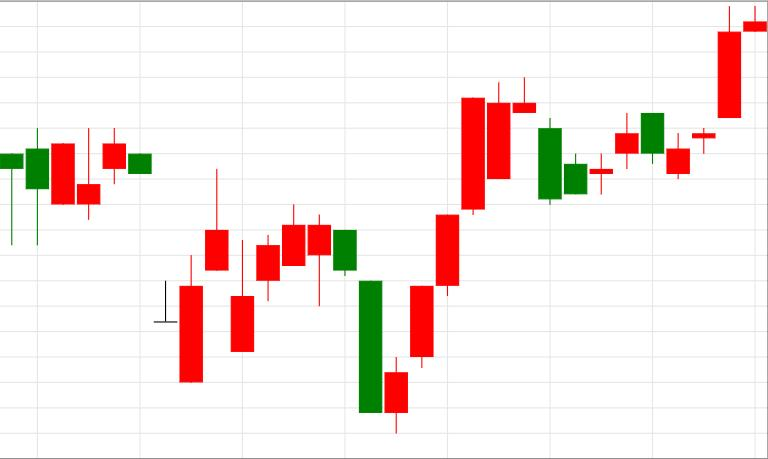three_white_soldiers_rise: (334, 97, 484, 433)
